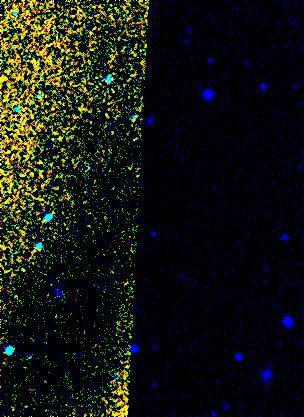star: (0, 65, 18, 95)
